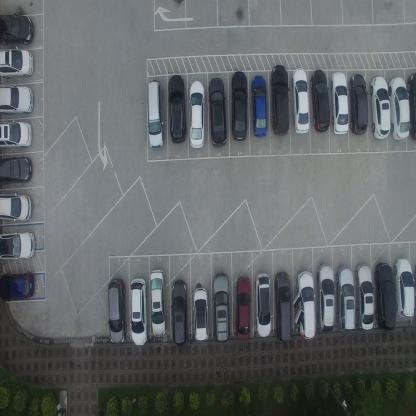car: (373, 262, 395, 332), (295, 270, 316, 340), (270, 63, 290, 136), (388, 75, 410, 141), (369, 75, 391, 140), (290, 67, 310, 136), (316, 262, 335, 334), (273, 272, 292, 343), (336, 266, 356, 333), (207, 77, 226, 147), (168, 74, 187, 144), (394, 256, 415, 319), (310, 68, 330, 134), (107, 278, 127, 344), (355, 263, 374, 331), (230, 71, 248, 142), (146, 79, 164, 149), (348, 73, 368, 136), (148, 267, 166, 337), (130, 276, 148, 346), (0, 269, 36, 304), (330, 71, 349, 136), (212, 271, 229, 343), (0, 228, 36, 262), (254, 271, 272, 338), (171, 278, 188, 348), (0, 45, 35, 79), (188, 80, 205, 149), (0, 191, 33, 224), (250, 74, 267, 138), (0, 14, 34, 46), (235, 275, 251, 341), (0, 118, 33, 150), (0, 84, 34, 115), (192, 287, 210, 343), (0, 155, 33, 185), (407, 72, 416, 143)
